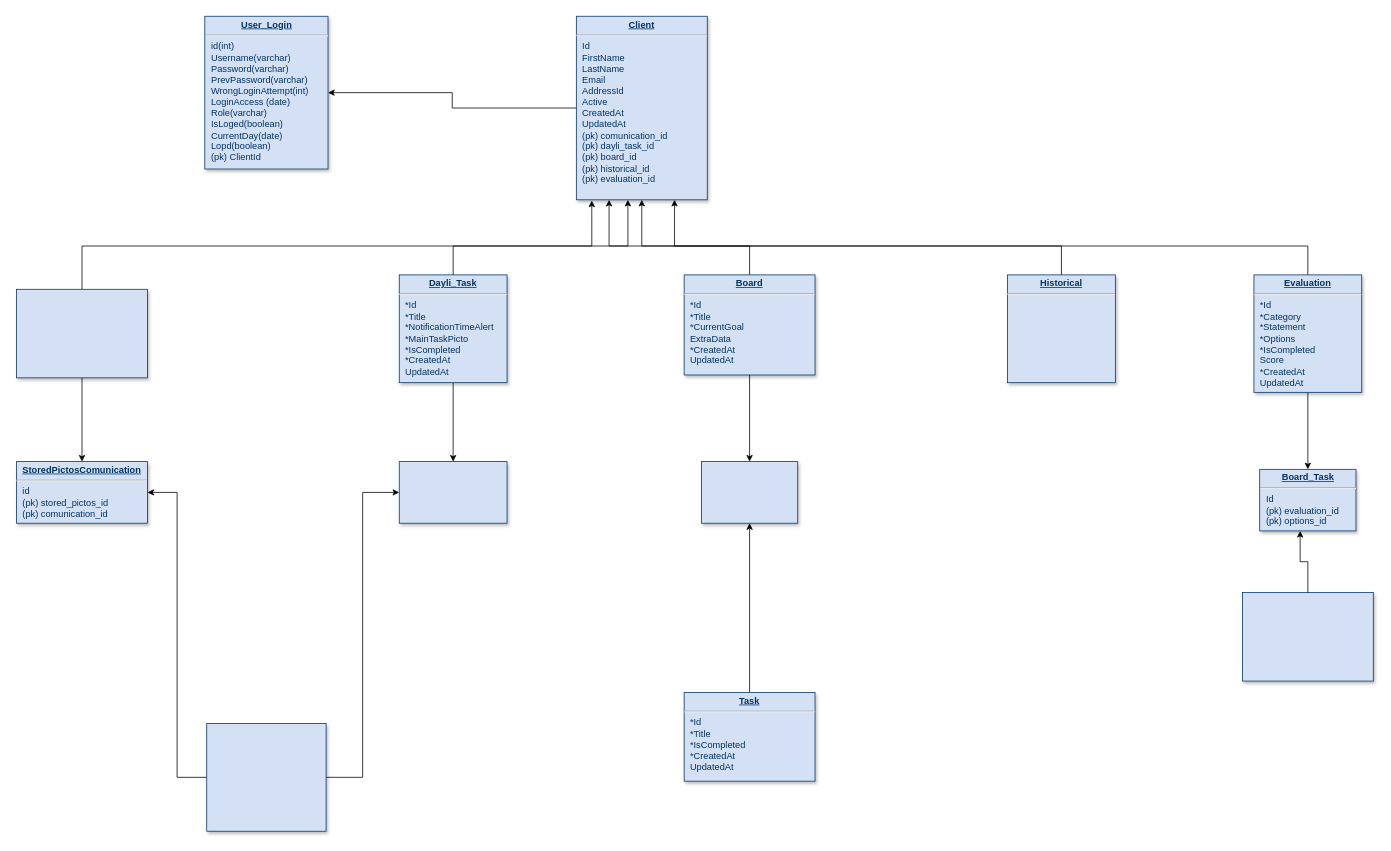
Image size: 1391x851. Some labels were removed from this diagram. Here are the shapes that lost their labels. From the top down, the centre of each, then its label:
At (82,334): "Comunication Id Title Description CreatedAt UpdatedAt".
At (453,493): "StoredPictosDayli id (pk) stored_pictos_id (pk) dayli_task_id".
At (750,493): "Board_Task Id (pk) board_id (pk) task_id".
At (1308,637): "Options *Id *IconCode *Description *Score Extra".
At (267,778): "StoredPictos *id *title *category *acceptance *code *CreatedAt UpdatedAt".
